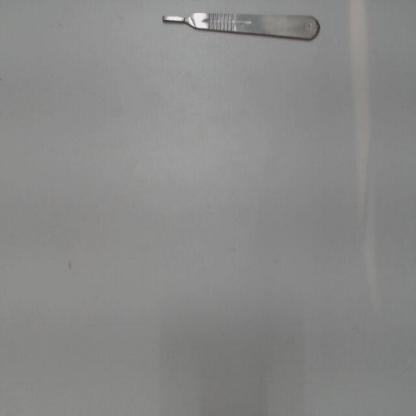No.3 BP Handle: (158, 7, 322, 55)
